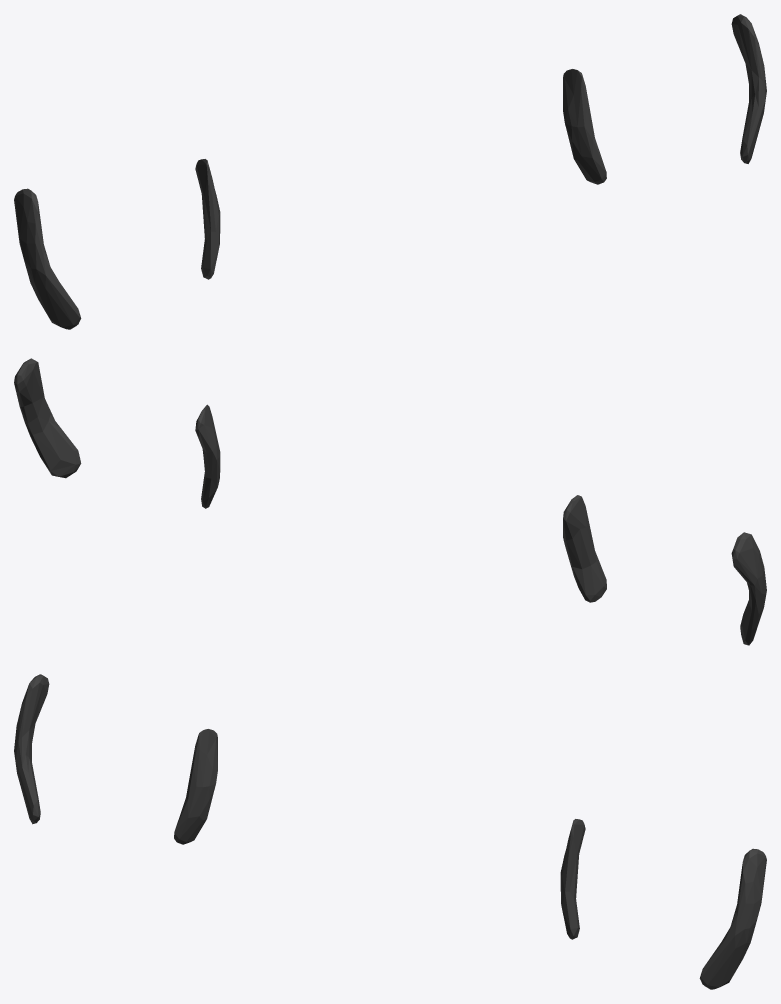
Rendered from lig_collateral_fetlock_FL.glb.
The picture shows the model from 3 angles, top to bottom: view 1: azimuth 30°, elevation 25°; view 2: azimuth 150°, elevation 25°; view 3: azimuth 330°, elevation 25°; orthographic projection.
Visible parts, largest first — view 1: lig_collateral_fetlock_FL; view 2: lig_collateral_fetlock_FL; view 3: lig_collateral_fetlock_FL.
Boxes of the visible parts, x1,y1,x2,y2 form: lig_collateral_fetlock_FL: (14,14,766,329); lig_collateral_fetlock_FL: (14,358,766,645); lig_collateral_fetlock_FL: (14,674,766,989).
Bounding box in the file's own units: 0.00429 × 0.000719 × 0.000394.
Materials: 1 (1 with a texture image).
